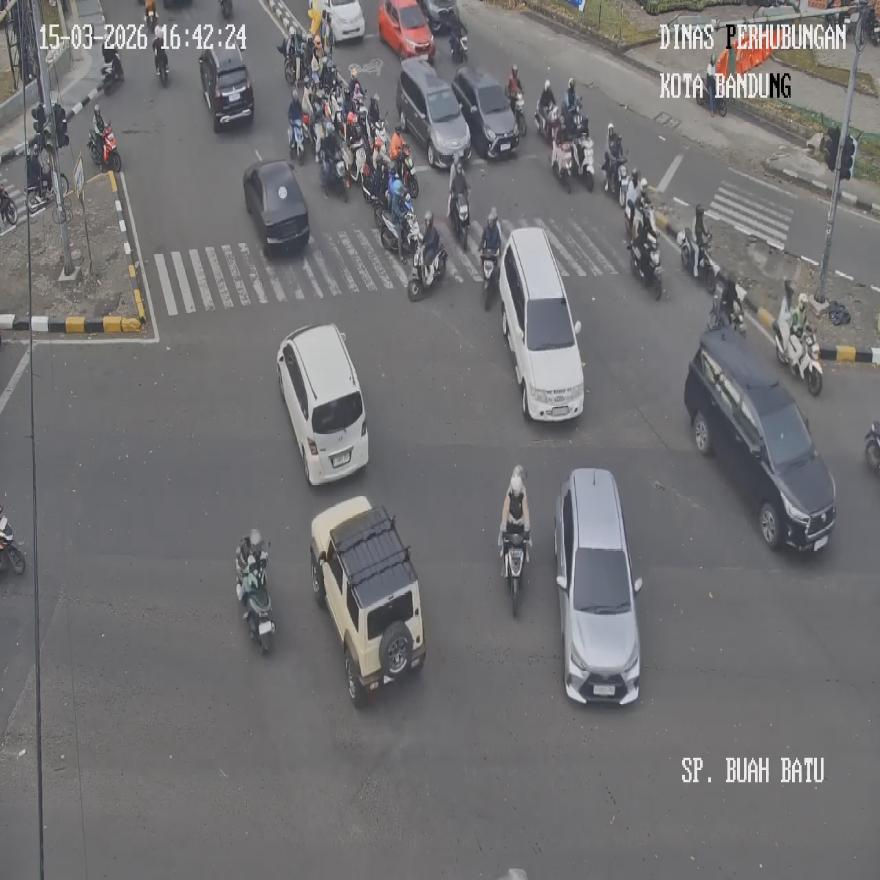Motor: (683, 325, 836, 551), (310, 495, 426, 704), (554, 468, 643, 705), (498, 227, 584, 420), (277, 323, 369, 485), (396, 57, 472, 170), (452, 62, 520, 159), (243, 158, 309, 256), (198, 48, 254, 130), (378, 0, 434, 62)
Truk: (775, 321, 822, 396), (377, 191, 421, 259), (238, 578, 275, 653), (627, 228, 662, 300), (408, 237, 447, 301), (709, 270, 745, 337), (679, 227, 715, 292), (87, 122, 121, 171), (392, 138, 419, 199), (505, 537, 524, 617), (320, 148, 348, 200), (694, 72, 726, 117), (447, 188, 469, 251), (550, 133, 573, 193), (602, 148, 626, 203), (571, 136, 594, 190), (480, 245, 498, 310), (0, 529, 25, 574), (533, 99, 558, 142), (100, 52, 123, 96), (858, 2, 880, 46), (864, 420, 880, 474), (347, 136, 365, 182), (289, 116, 306, 163), (449, 22, 467, 65), (0, 182, 17, 226), (509, 90, 525, 136), (155, 45, 169, 86), (144, 0, 156, 33), (219, 0, 232, 18)
